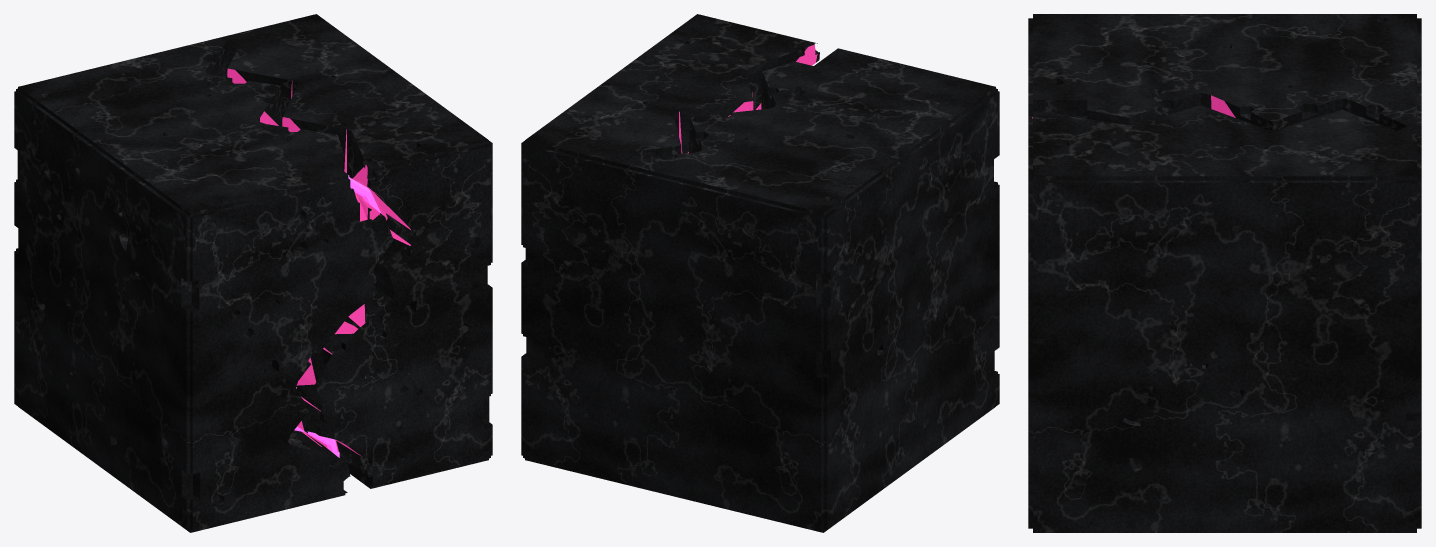
File: block_mine.glb
3 views of the same model, side by side, from view 1: azimuth 30°, elevation 25°; view 2: azimuth 150°, elevation 25°; view 3: azimuth 270°, elevation 25° (orthographic). The views are drawn at different scales.
Visible parts, largest first — view 1: Mine_Body, Mine_Fissures; view 2: Mine_Body; view 3: Mine_Body.
Part boxes in pixels (left/top/right/bottom): Mine_Body: left=14, top=14, right=492, bottom=532; Mine_Fissures: left=294, top=175, right=381, bottom=457; Mine_Body: left=521, top=14, right=999, bottom=532; Mine_Body: left=1028, top=14, right=1421, bottom=532.
Size of the model in its own units: 1 by 1 by 1.
Materials: 4 (1 with a texture image).
